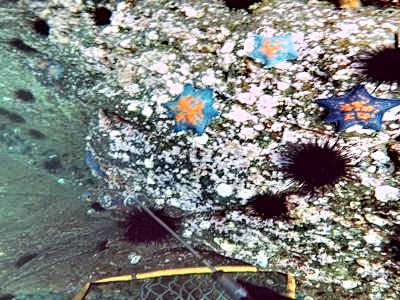urchin: (279, 136, 351, 195), (121, 208, 181, 244), (365, 41, 395, 92), (248, 190, 291, 220)
